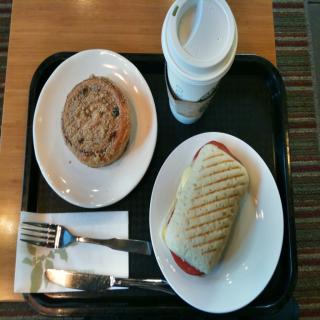Cookie: (60, 74, 132, 169)
